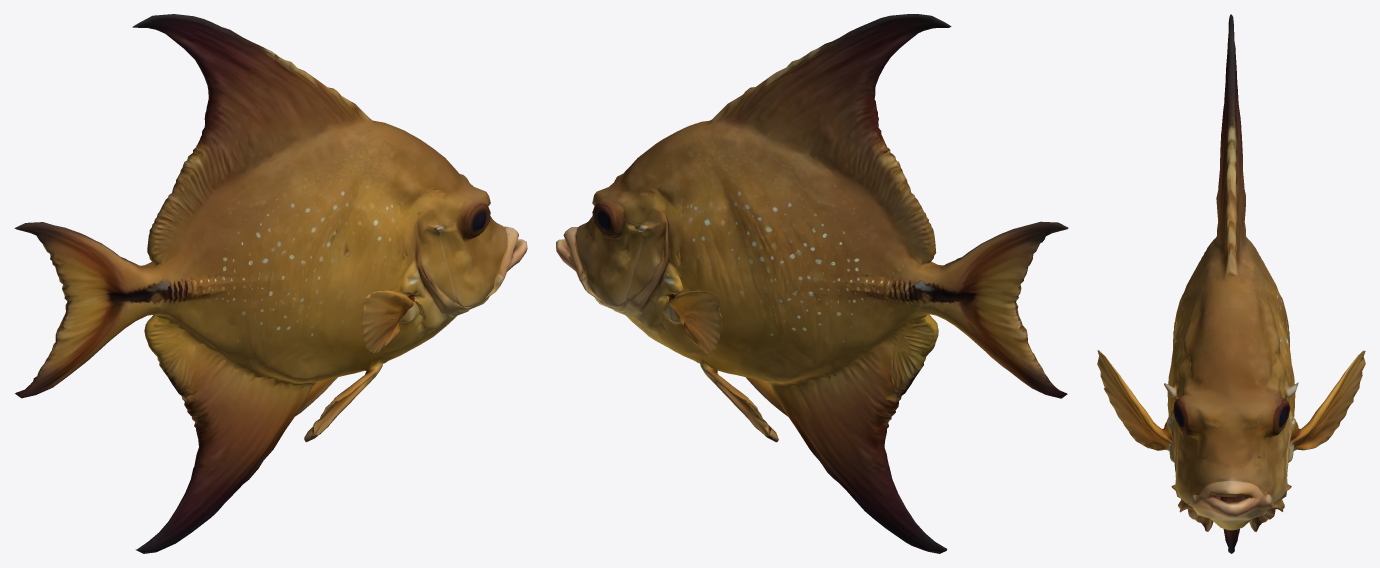
The model's file is brown_tang.glb.
3 views of the same model, side by side, from view 1: azimuth 30°, elevation 25°; view 2: azimuth 150°, elevation 25°; view 3: azimuth 270°, elevation 25° (orthographic).
Visible parts, largest first — view 1: brown_tangBody; view 2: brown_tangBody; view 3: brown_tangBody.
Part boxes in pixels (box(x1,y1,x2,y2)): brown_tangBody: box(14, 14, 527, 553); brown_tangBody: box(556, 14, 1068, 553); brown_tangBody: box(1097, 14, 1365, 553).
Size of the model in its own units: 1 by 1.01 by 0.464.
Materials: 1 (1 with a texture image).
